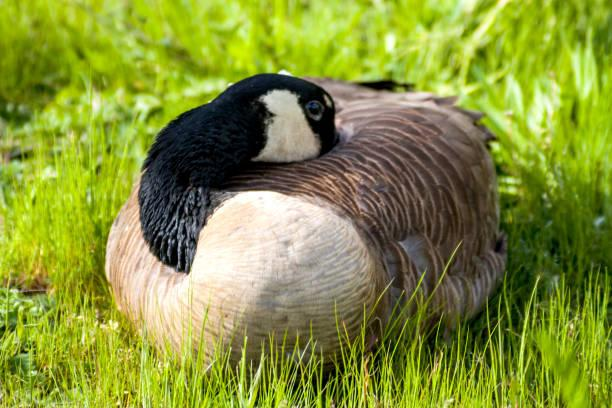Canadian-Goose: (104, 71, 509, 365)
